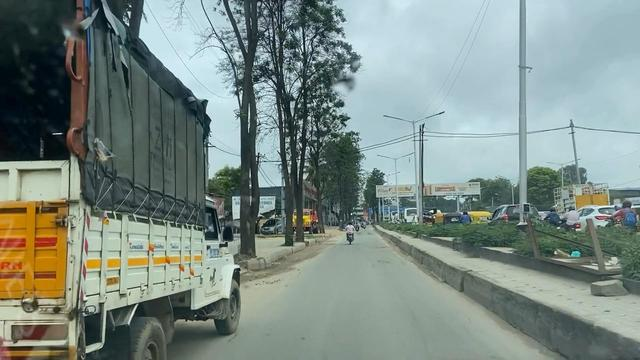HMV: (2, 6, 239, 357)
